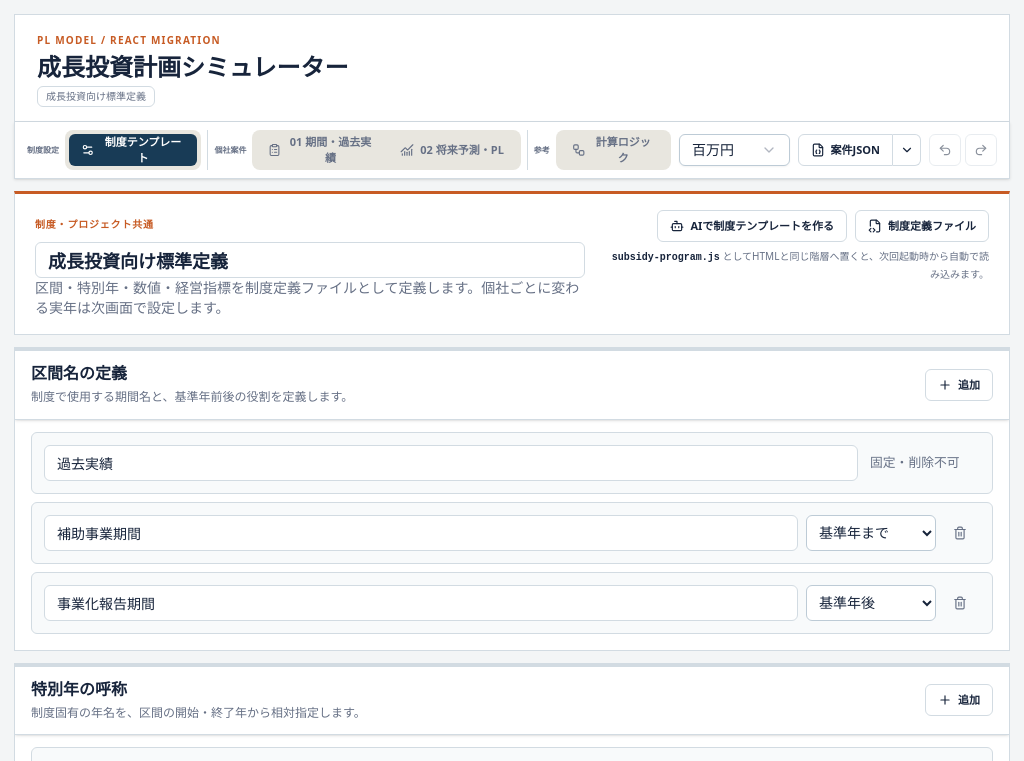
it: 制度定義画面 › 共通数値定義を経営指標より前に表示し、区間と特別年を同じ追加UIで編集する
The image size is (1024, 761).
expect the button with aria-label "区間を追加" is shown: met, box [925,369,993,401]
Click the button with aria-label "特別年を追加": (959, 700) [925,684,993,716]
(page scrolled)
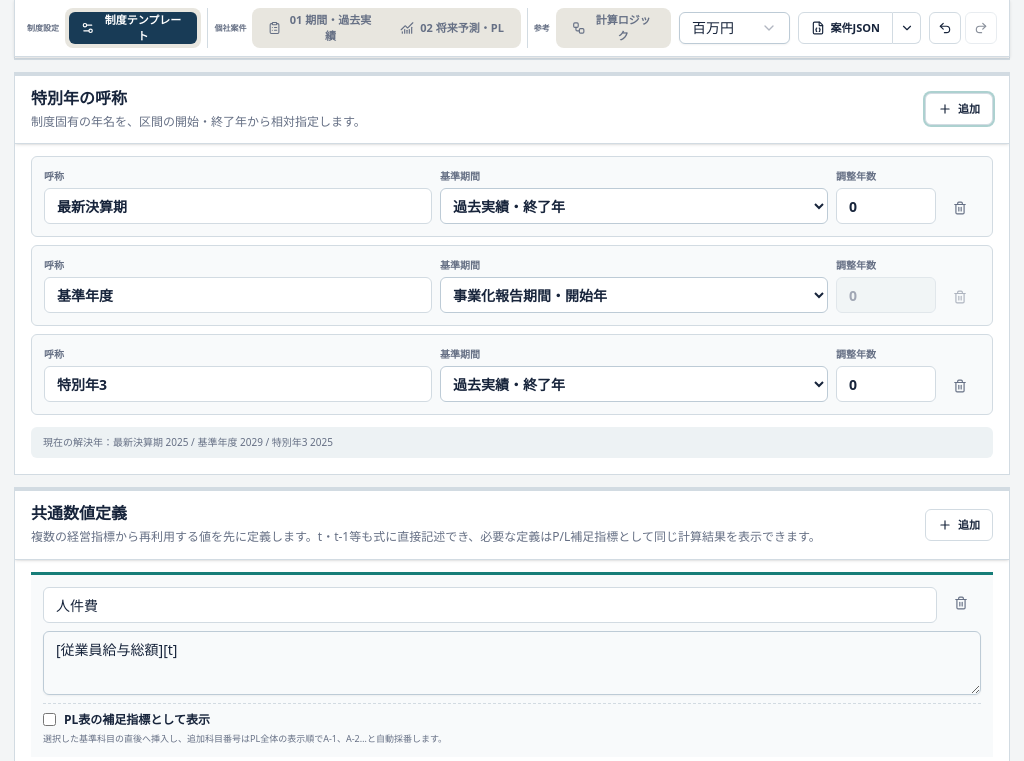
expect the field named "特別年3 呼称" is shown: met, box [44,366,432,402]
expect the number field named "特別年3 調整年数" holds "0": met, box [836,366,936,402]
